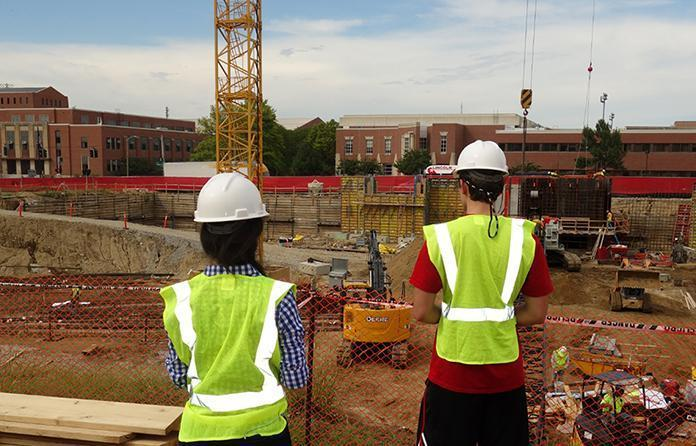vest: (158, 268, 295, 444), (420, 213, 538, 362)
